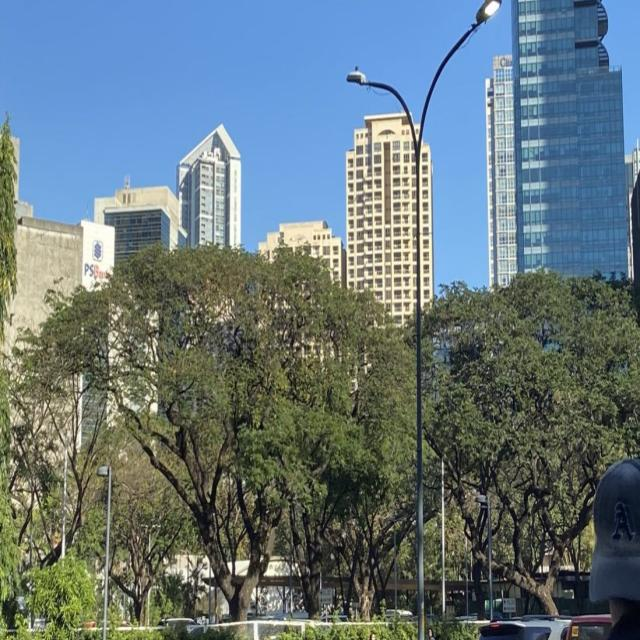Acacia: (51, 211, 406, 612), (438, 265, 623, 573)
